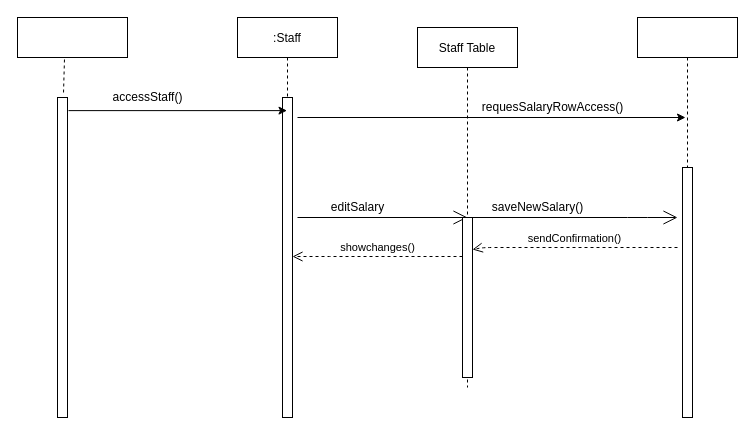
Some shapes in this 755 by 435 pixel diagram are drawn without their labels. The box of each missing label's shape, as (x1, y1, x2, y2) in pixels:
:Server: (636, 16, 738, 418)
Economist Page: (16, 16, 128, 58)
